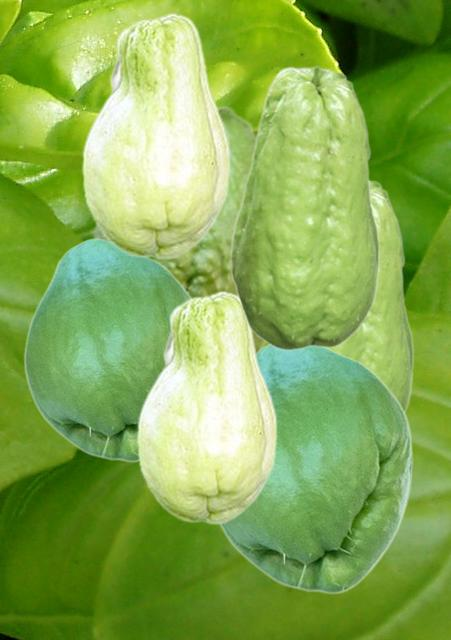sayote: (219, 345, 412, 594), (229, 65, 380, 351), (90, 104, 265, 349), (23, 238, 191, 462), (81, 12, 229, 259), (136, 290, 276, 524), (333, 177, 414, 411)
